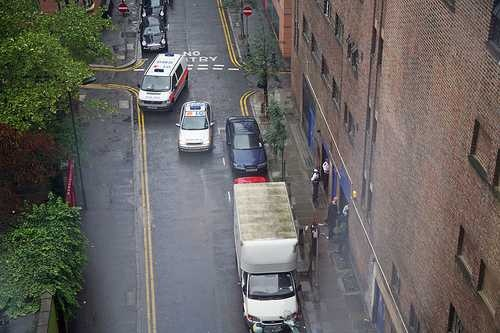Ambulance: (134, 45, 186, 117)
